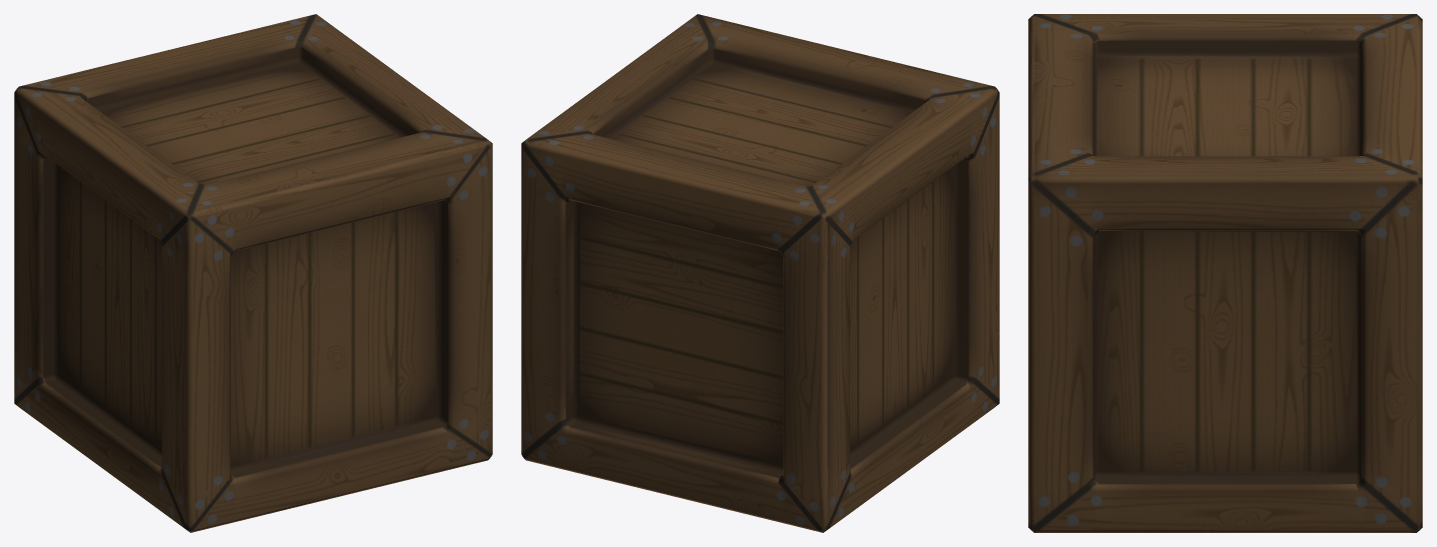
File: obj_crate_259e5c.glb
The picture shows the model from 3 angles, left to right: view 1: azimuth 30°, elevation 25°; view 2: azimuth 150°, elevation 25°; view 3: azimuth 270°, elevation 25°; orthographic projection. The views are drawn at different scales.
Visible parts, largest first — view 1: obj_crate_259e5c; view 2: obj_crate_259e5c; view 3: obj_crate_259e5c.
Part boxes in pixels (<box>): obj_crate_259e5c: <box>14,14,492,532</box>; obj_crate_259e5c: <box>521,14,999,532</box>; obj_crate_259e5c: <box>1028,14,1422,532</box>.
Bounding box in the file's own units: 0.4 × 0.4 × 0.4.
Materials: 1 (1 with a texture image).
